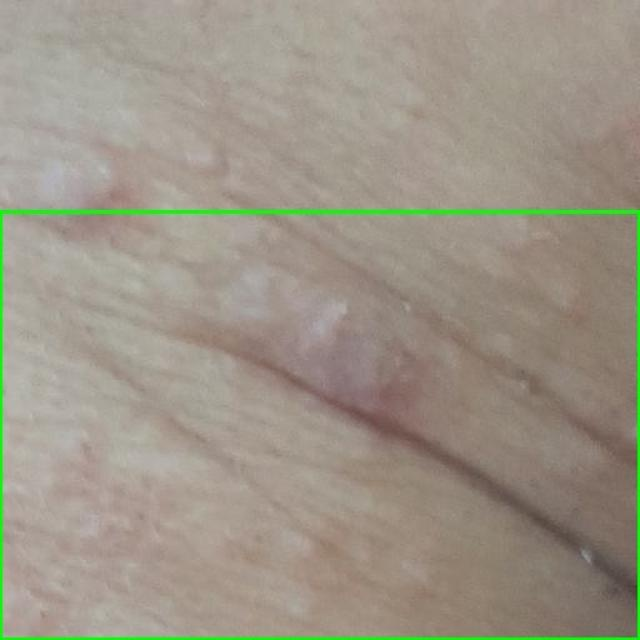Scabies: (0, 211, 639, 639)
